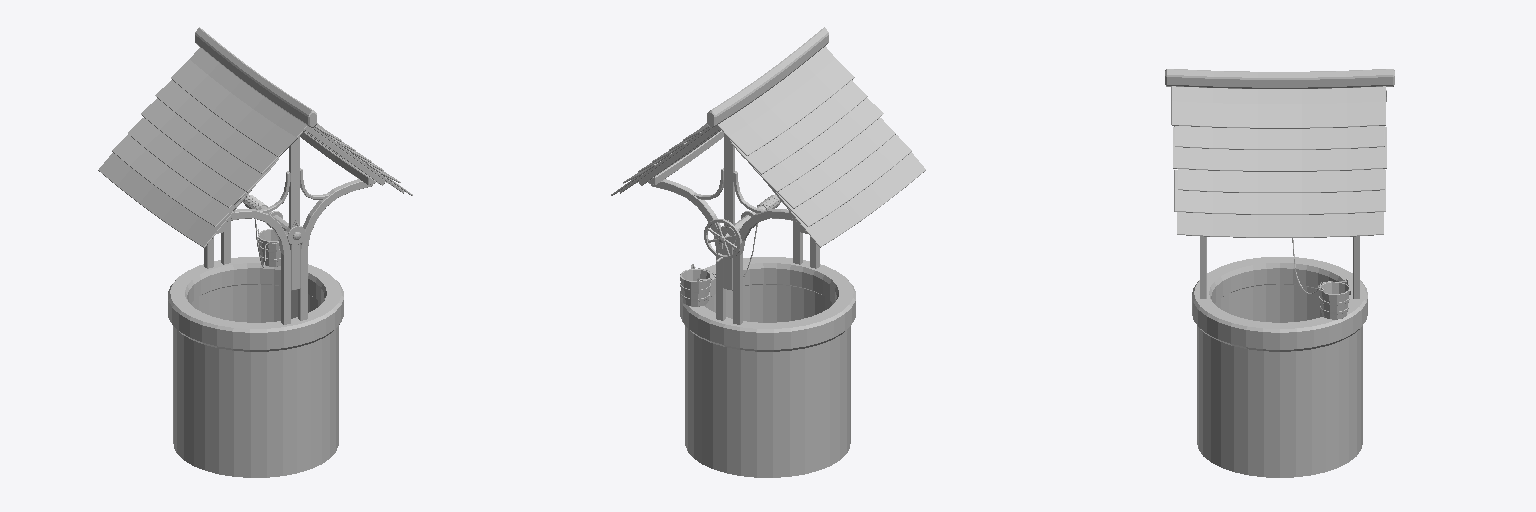
The model's file is pozo3.obj.
The picture shows the model from 3 angles: view 1: azimuth 30°, elevation 25°; view 2: azimuth 150°, elevation 25°; view 3: azimuth 270°, elevation 25°; orthographic projection.
Parts seen in each view (by area): view 1: Well_OBJ; view 2: Well_OBJ; view 3: Well_OBJ.
Part boxes in pixels (left/top/right/bottom): Well_OBJ: left=98, top=27, right=412, bottom=477; Well_OBJ: left=611, top=27, right=925, bottom=477; Well_OBJ: left=1165, top=69, right=1394, bottom=477.
Size of the model in its own units: 18.15 by 30.8 by 17.09.